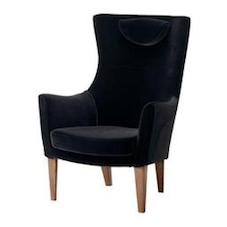chair: (20, 0, 201, 220)
